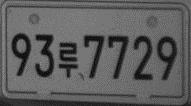2: (132, 34, 154, 82)
3: (33, 33, 56, 77)
7: (106, 34, 131, 80), (82, 34, 105, 79)
9: (156, 36, 178, 80), (11, 32, 31, 77)
루: (57, 40, 79, 78)
